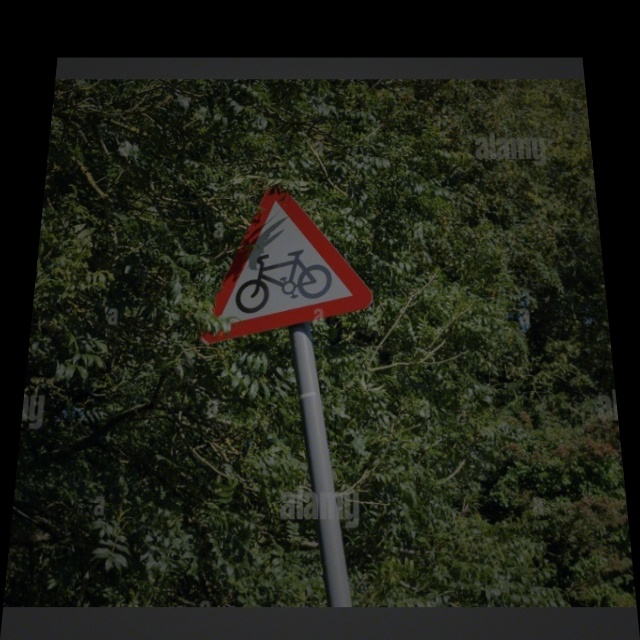Cycle_Crossing: (207, 184, 380, 333)
